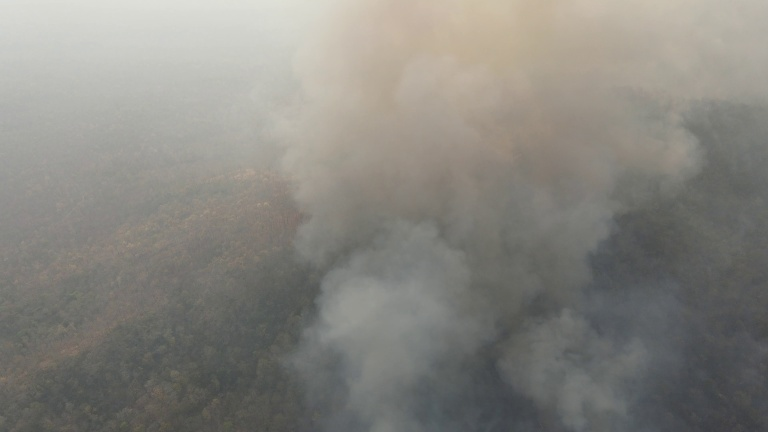smoke: (284, 1, 683, 282), (309, 232, 501, 416), (503, 306, 670, 421)
